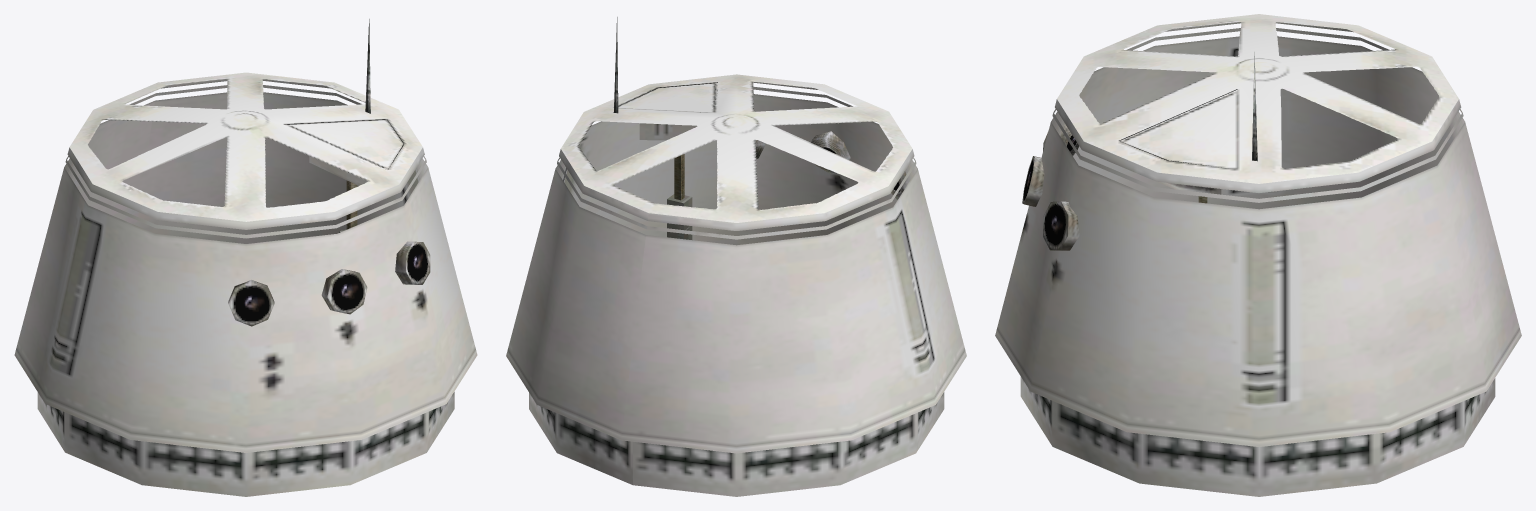
The model's file is poi_r5_head_l1.fbx.
The picture shows the model from 3 angles, left to right: view 1: azimuth 30°, elevation 25°; view 2: azimuth 150°, elevation 25°; view 3: azimuth 270°, elevation 25°; orthographic projection. The views are drawn at different scales.
Parts seen in each view (by area): view 1: mesh_node; view 2: mesh_node; view 3: mesh_node.
Part boxes in pixels (box(x1,y1,x2,y2)): mesh_node: box(14, 19, 477, 496); mesh_node: box(506, 17, 966, 496); mesh_node: box(995, 14, 1521, 496).
Bounding box in the file's own units: 0.432 × 0.3771 × 0.432.
Materials: 2 (2 with a texture image).
